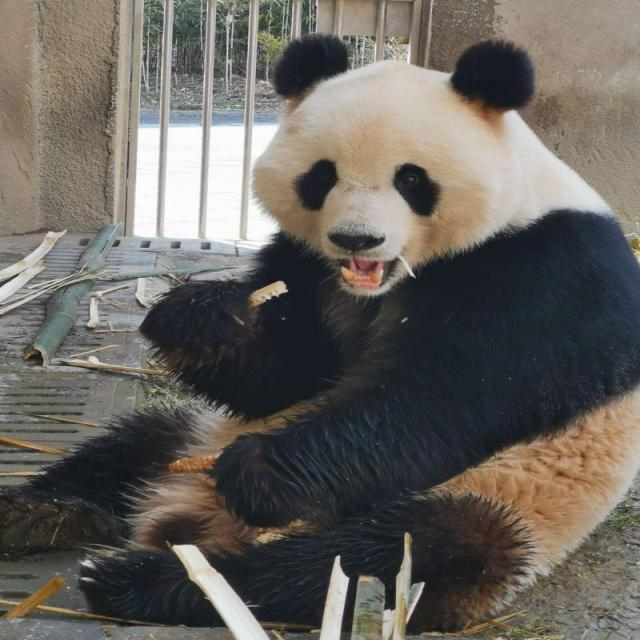panda: (88, 8, 630, 637)
